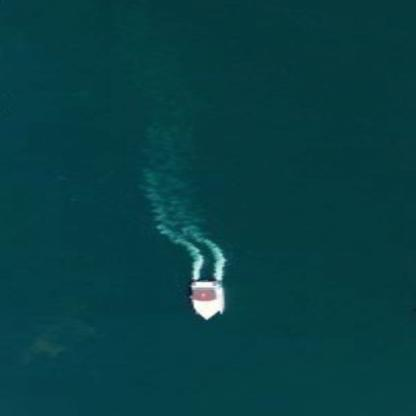ship: (174, 268, 237, 329)
